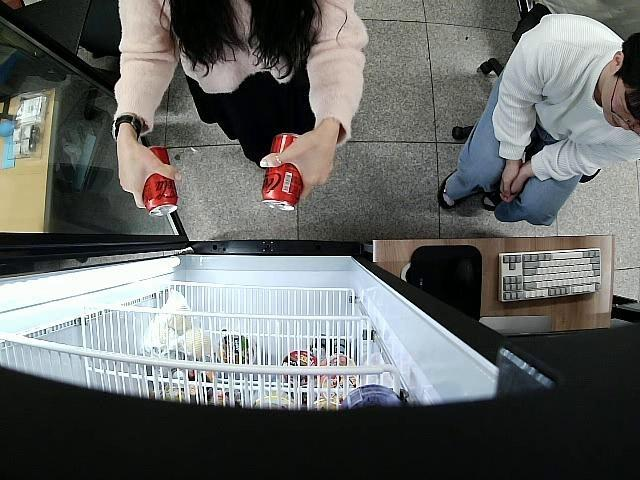11_cocaColaZero: (262, 133, 303, 210), (142, 146, 179, 218)
